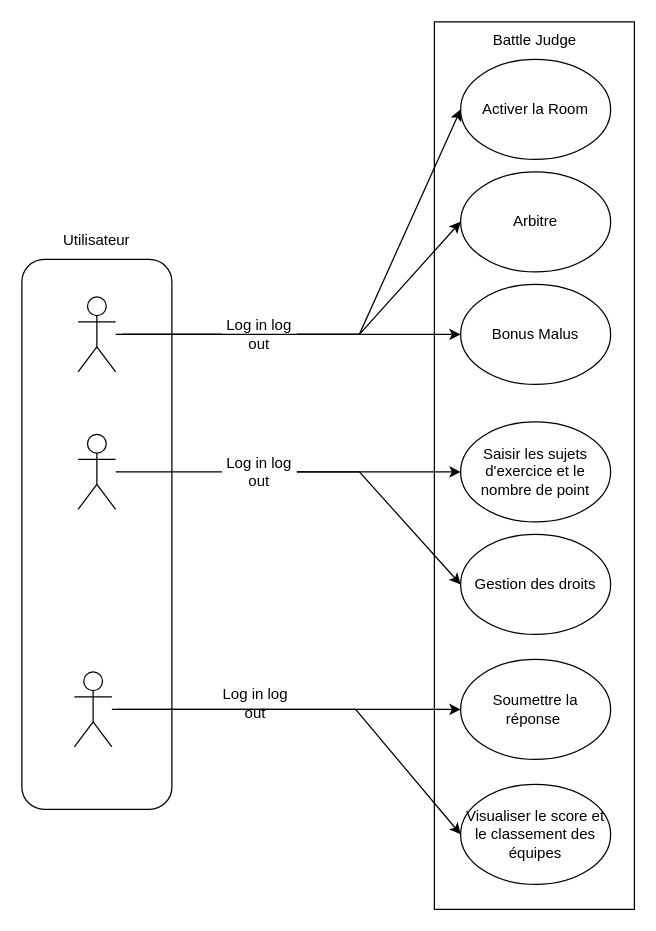
Some shapes in this 656 by 931 pixel diagram are drawn without their labels. Each missing label, with the centre of its shape:
"Admin" belongs at point 96,471.
"Judge" belongs at point 96,334.
"User" belongs at point 92,709.
